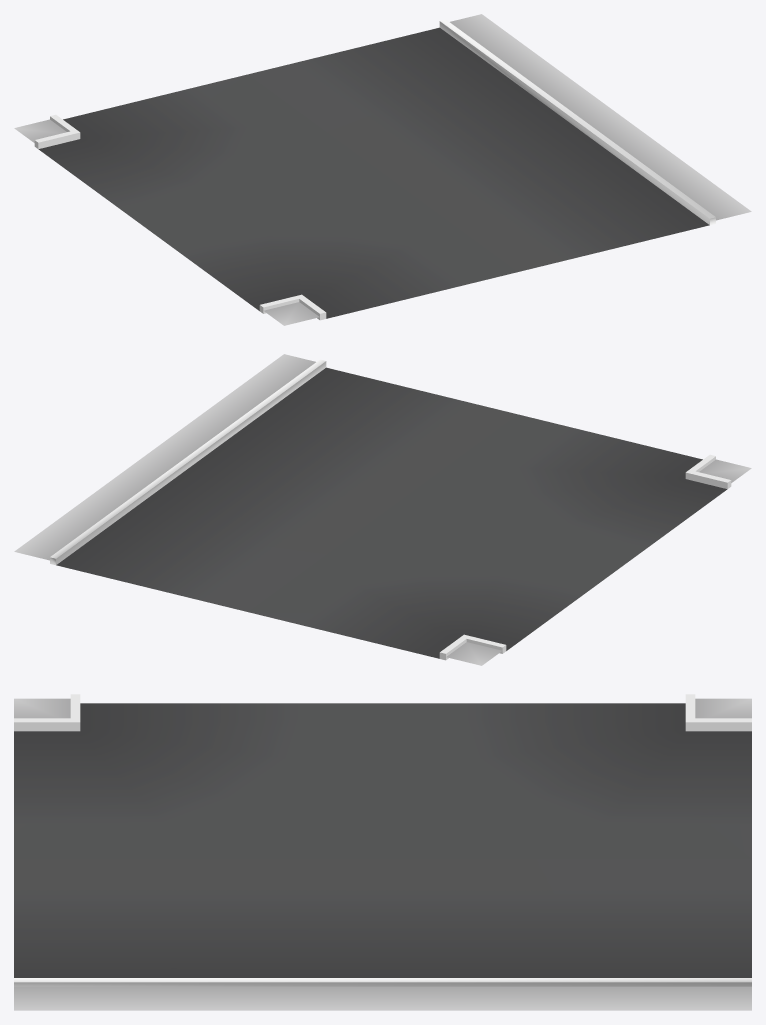
Rendered from road_003.glb.
The picture shows the model from 3 angles, top to bottom: view 1: azimuth 30°, elevation 25°; view 2: azimuth 150°, elevation 25°; view 3: azimuth 270°, elevation 25°; orthographic projection. The views are drawn at different scales.
Parts seen in each view (by area): view 1: road_003; view 2: road_003; view 3: road_003.
Boxes of the visible parts, left/top/right/bottom form: road_003: left=14, top=14, right=751, bottom=325; road_003: left=14, top=354, right=751, bottom=665; road_003: left=14, top=694, right=751, bottom=1010.
Bounding box in the file's own units: 15 × 0.2 × 15.
1 material, 1 textured.
